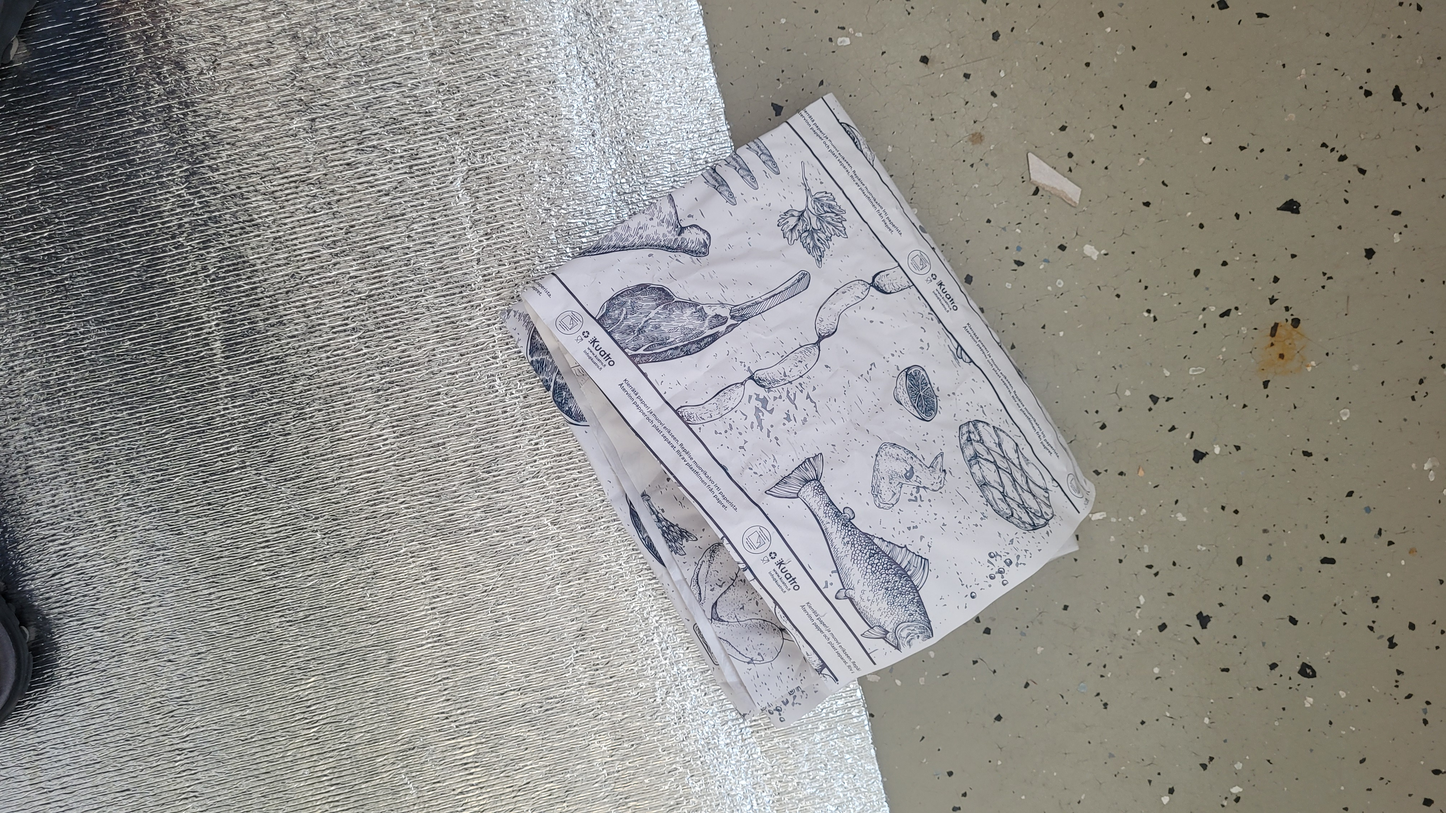paper: (496, 87, 1100, 739)
